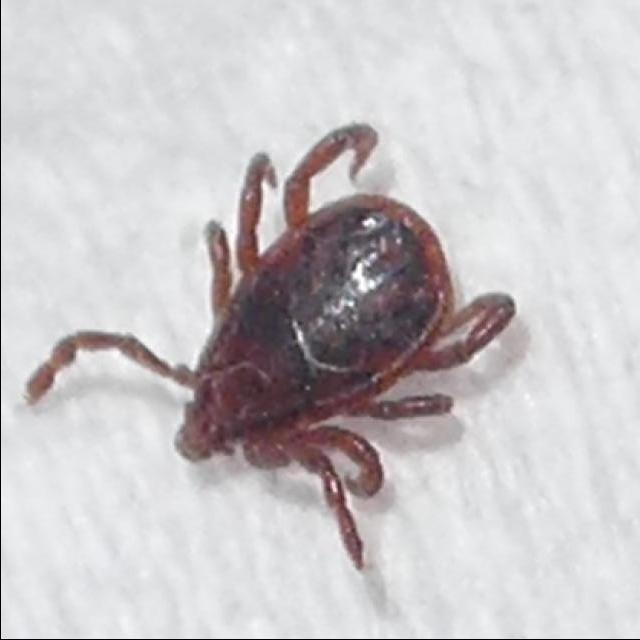Rhipicephalus Sanguineus-M: (24, 125, 518, 574)
